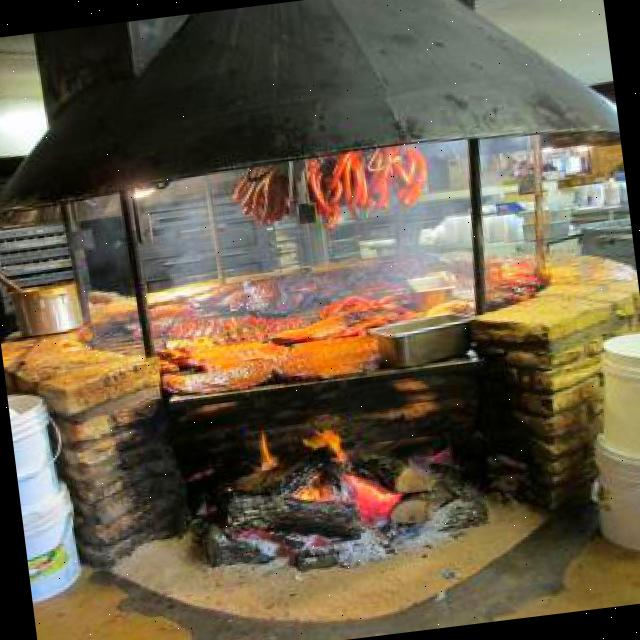fire: (233, 418, 368, 495)
